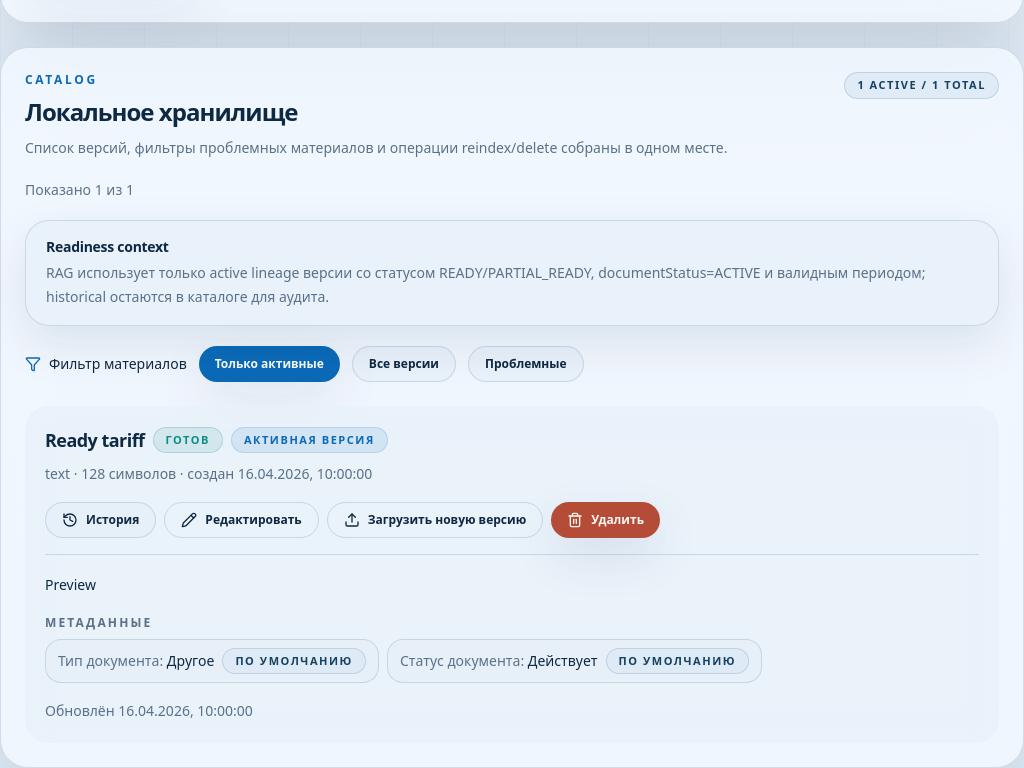
Test: MaterialsPanel › keeps the material edit dialog open when saving fails
The width and height of the screenshot is (1024, 768).
(page scrolled)
Click the button "Редактировать" at (242,520), box [164, 502, 319, 538]
(page scrolled)
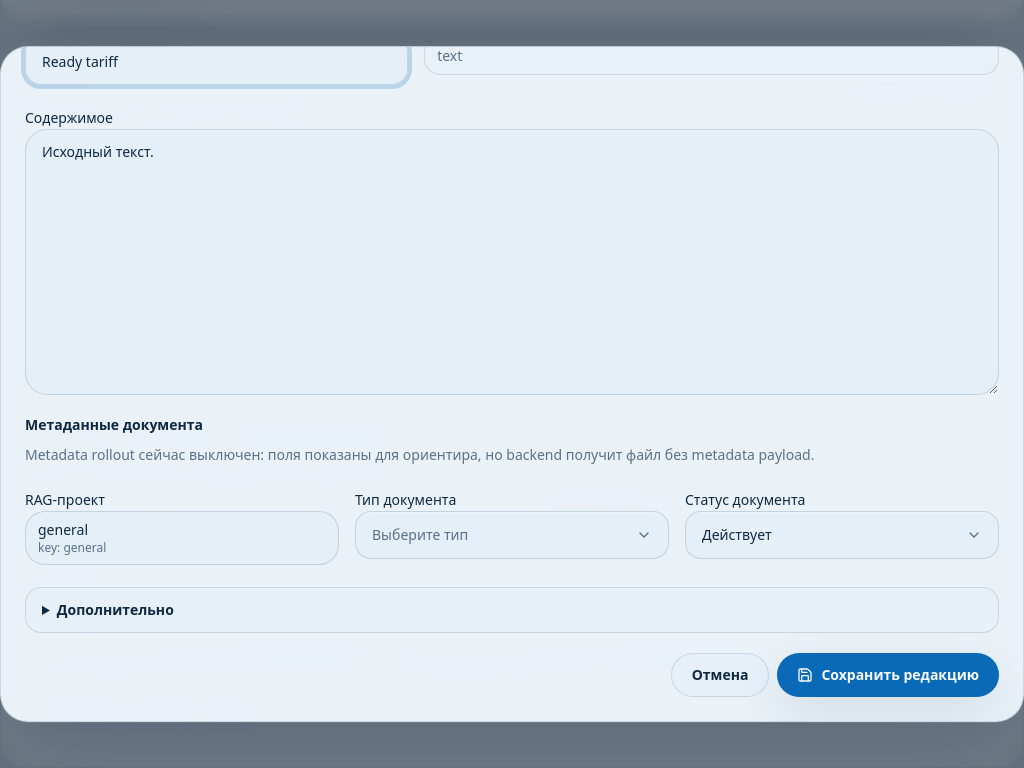
Expected: the text box labelled "Содержимое" holds "Исходный текст.", [25, 129, 999, 395]
Click the button "Сохранить редакцию" at (888,675), box [777, 653, 999, 697]
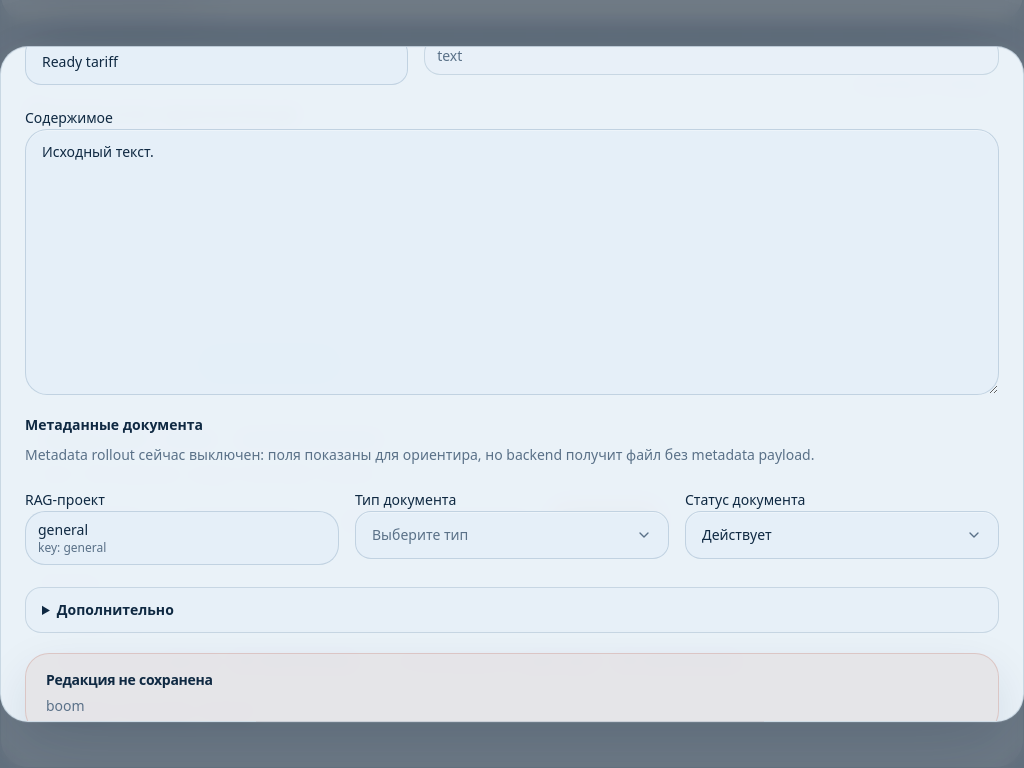
Expected: the dialog "Редактировать материал" is shown
Expected: the heading "Редакция не сохранена" is shown, [46, 670, 213, 689]
